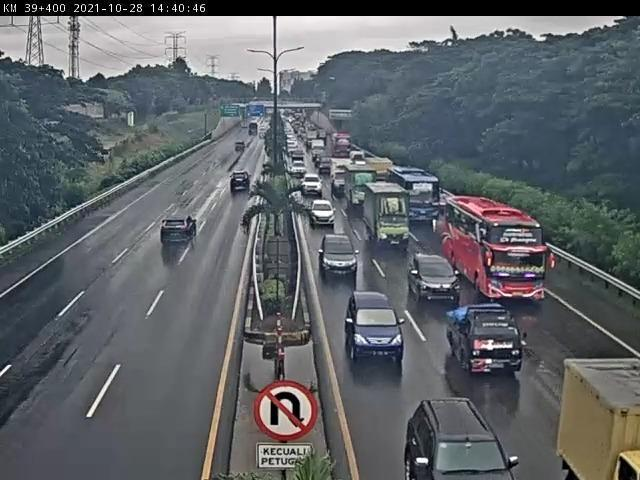bus: (446, 196, 548, 302), (385, 165, 438, 223)
car: (448, 303, 526, 380), (345, 291, 407, 363), (408, 252, 462, 302), (319, 234, 360, 278), (310, 198, 338, 229), (230, 170, 253, 193)
truck: (365, 182, 414, 249), (161, 215, 199, 247)
